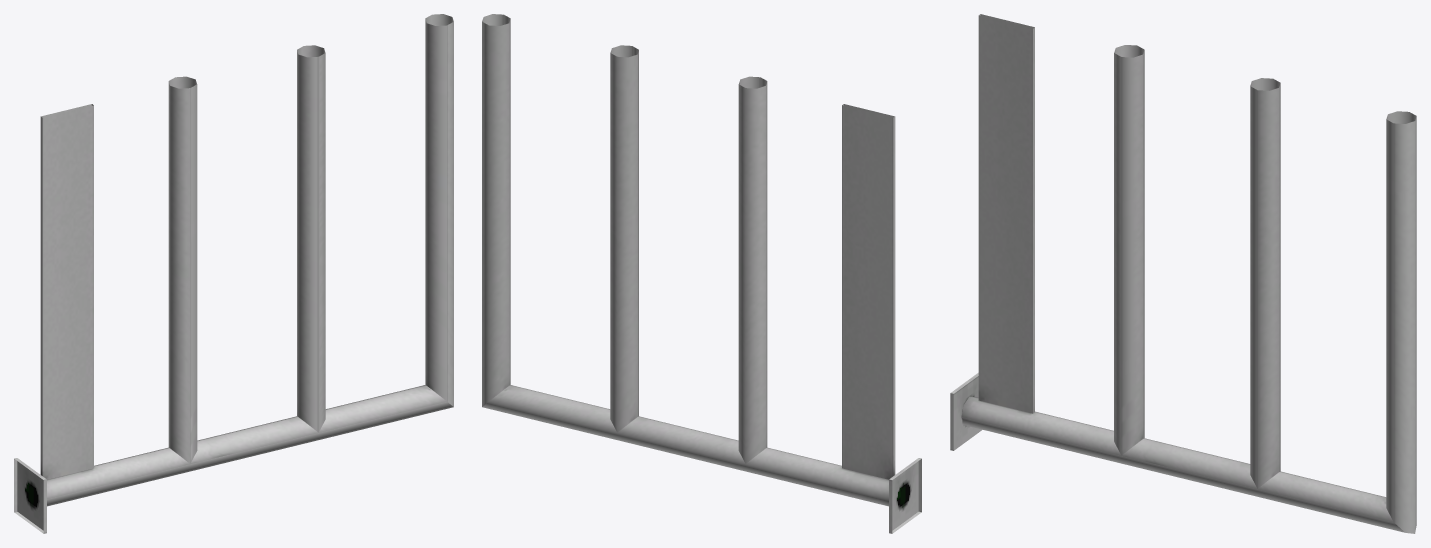
The model's file is props_trainyard_handrail28.glb.
3 renders of one model, left to right at view 1: azimuth 30°, elevation 25°; view 2: azimuth 150°, elevation 25°; view 3: azimuth 330°, elevation 25°, orthographic. The views are drawn at different scales.
Visible parts, largest first — view 1: models/props_trainyard/handrail28; view 2: models/props_trainyard/handrail28; view 3: models/props_trainyard/handrail28.
Part boxes in pixels (<box>): models/props_trainyard/handrail28: <box>14,14,453,533</box>; models/props_trainyard/handrail28: <box>482,14,921,533</box>; models/props_trainyard/handrail28: <box>950,14,1416,533</box>.
Size of the model in its own units: 33 by 30 by 4.
Materials: 1 (1 with a texture image).
